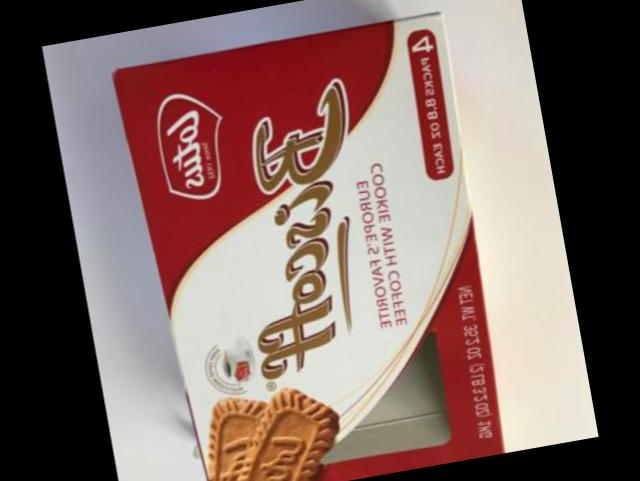cardboard paper: (116, 14, 505, 481)
